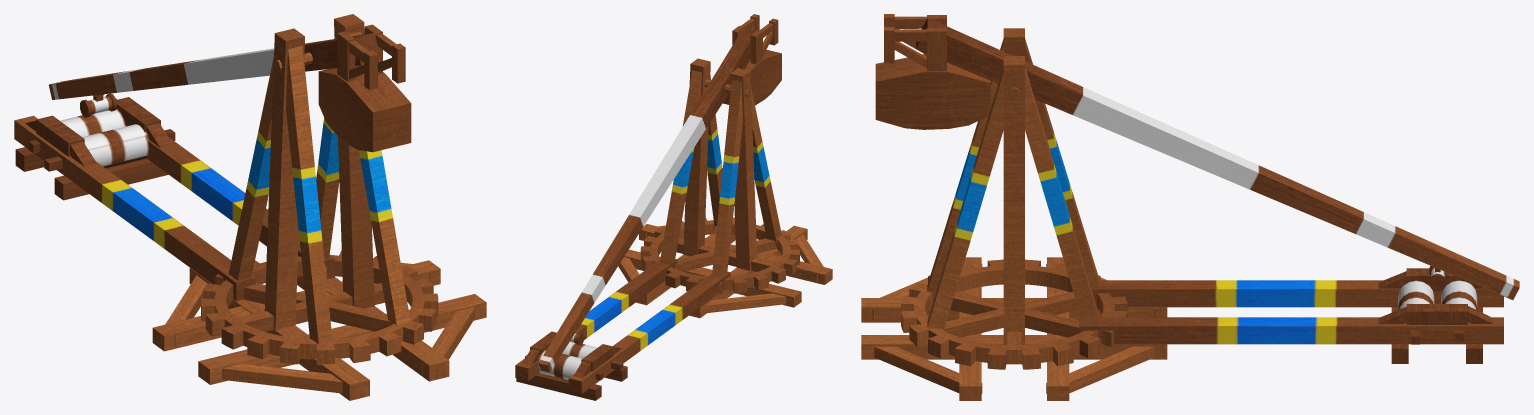
Rendered from Trebuchet.fbx.
The picture shows the model from 3 angles, left to right: view 1: azimuth 30°, elevation 25°; view 2: azimuth 150°, elevation 25°; view 3: azimuth 270°, elevation 25°; orthographic projection. The views are drawn at different scales.
Visible parts, largest first — view 1: body, foot, weight.001, longplank.001; view 2: body, longplank.001, foot, weight.001; view 3: body, longplank.001, foot, weight.001.
Part boxes in pixels (x1,y1,x2,y2): body: [14, 14, 438, 365]; foot: [152, 254, 486, 400]; weight.001: [318, 24, 411, 152]; longplank.001: [49, 32, 380, 117]; body: [515, 58, 799, 400]; longplank.001: [538, 26, 757, 372]; foot: [618, 217, 832, 318]; weight.001: [722, 14, 781, 105]; body: [901, 28, 1503, 369]; longplank.001: [916, 18, 1519, 299]; foot: [861, 257, 1167, 400]; weight.001: [875, 14, 990, 129].
Bounding box in the file's own units: 280 × 318 × 604.
